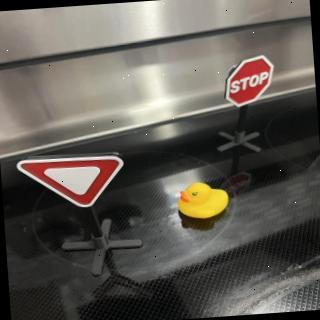duck_regular: (176, 179, 232, 222)
sign_stop: (223, 54, 279, 110)
sign_yield: (17, 150, 129, 214)
